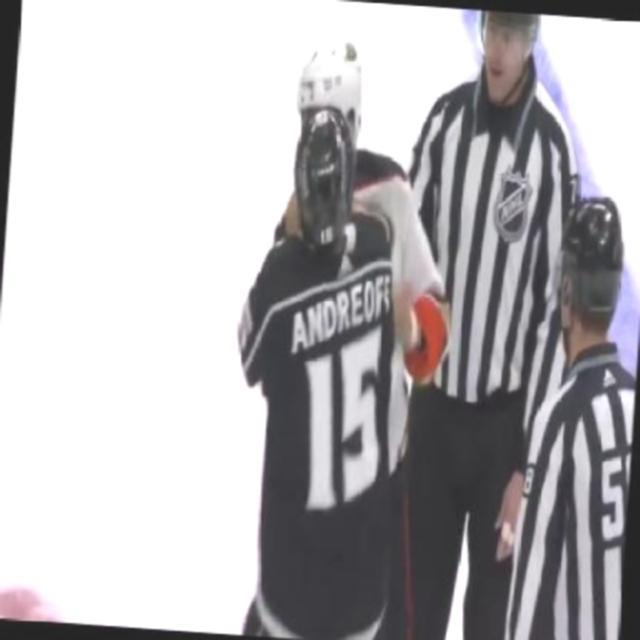fight: (214, 24, 476, 638)
non-fight: (496, 182, 638, 638)
